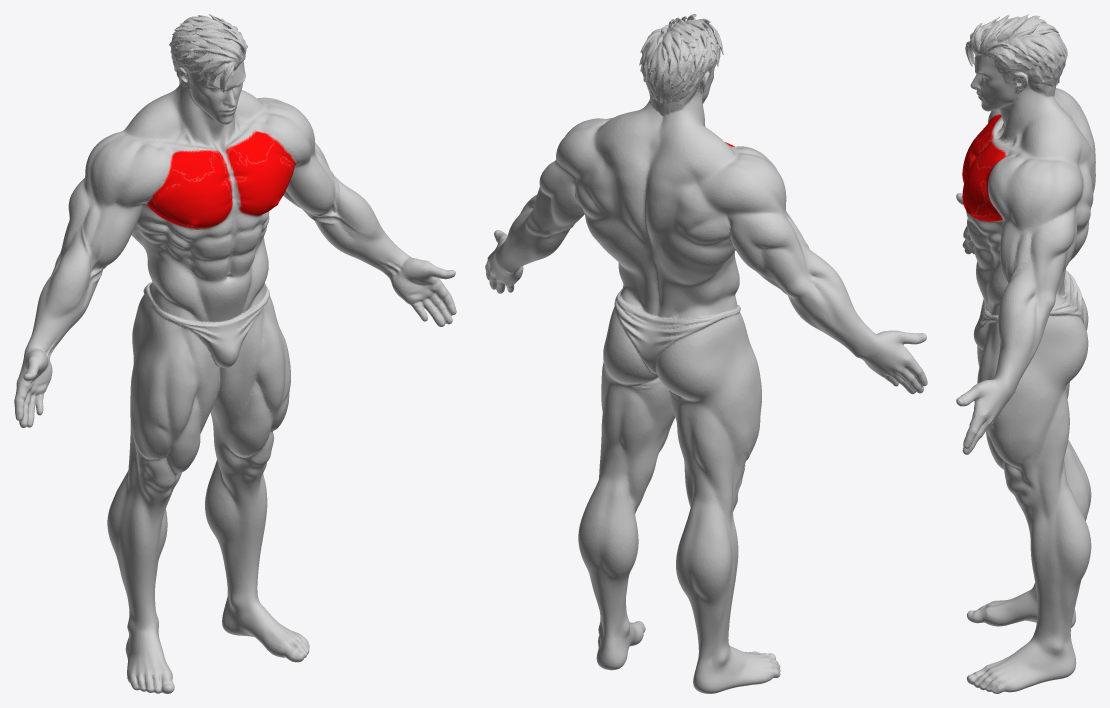
File: WorkoutPlanner_MuscleMap-compressed.glb
3 renders of one model, left to right at view 1: azimuth 30°, elevation 25°; view 2: azimuth 150°, elevation 25°; view 3: azimuth 270°, elevation 25°, orthographic.
Visible parts, largest first — view 1: Body_MaskPaint; view 2: Body_MaskPaint; view 3: Body_MaskPaint.
Part boxes in pixels (bbox=[...]): Body_MaskPaint: bbox=[14, 14, 456, 693]; Body_MaskPaint: bbox=[485, 14, 927, 693]; Body_MaskPaint: bbox=[956, 14, 1095, 693].
Bounding box in the file's own units: 1.36 × 1.9 × 0.3779.
Materials: 1 (1 with a texture image).
